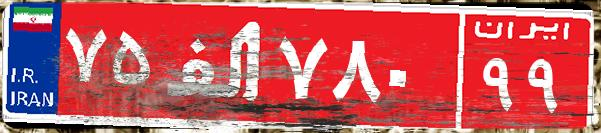0: (385, 28, 445, 110)
5: (110, 28, 158, 105)
7: (273, 28, 330, 110), (57, 26, 110, 107)
8: (330, 28, 385, 110)
9: (475, 38, 525, 113), (525, 38, 570, 115)
الف: (158, 15, 273, 115)
